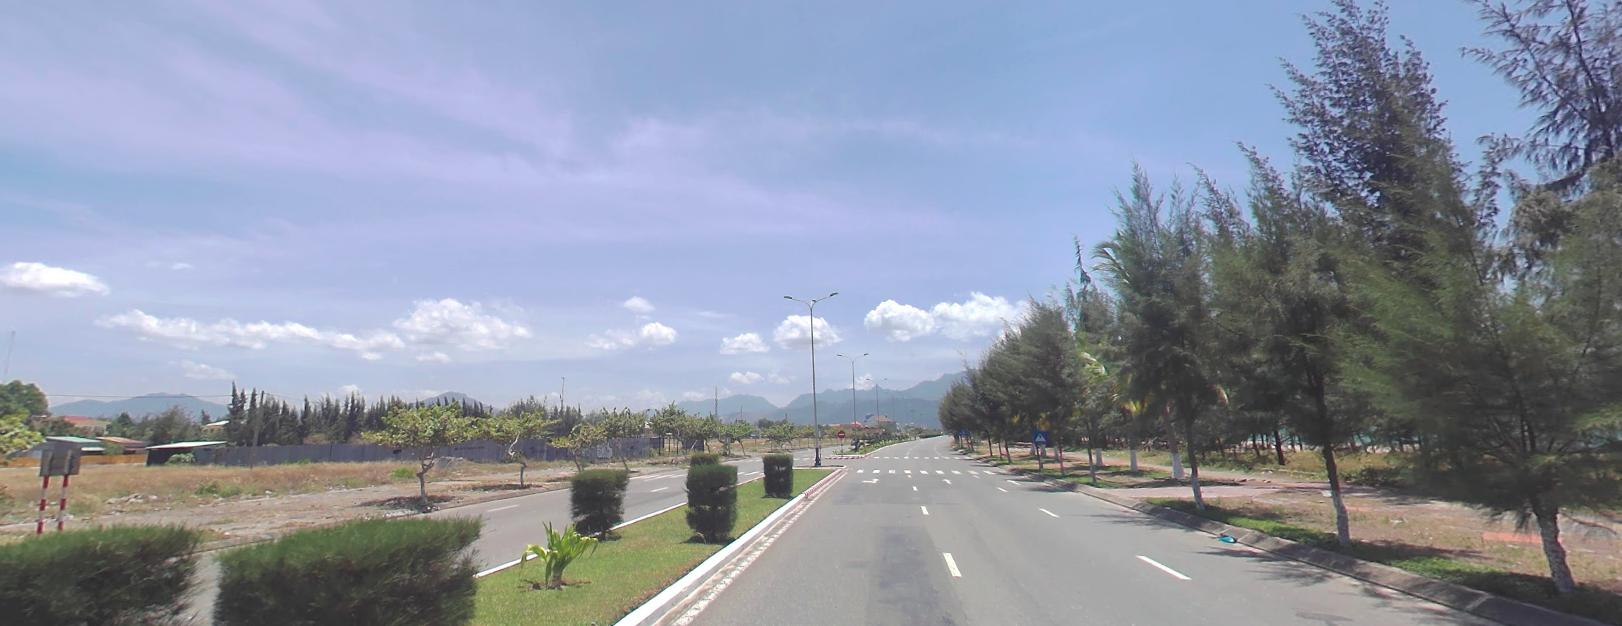Cam nguoc chieu: (837, 429, 844, 436)
